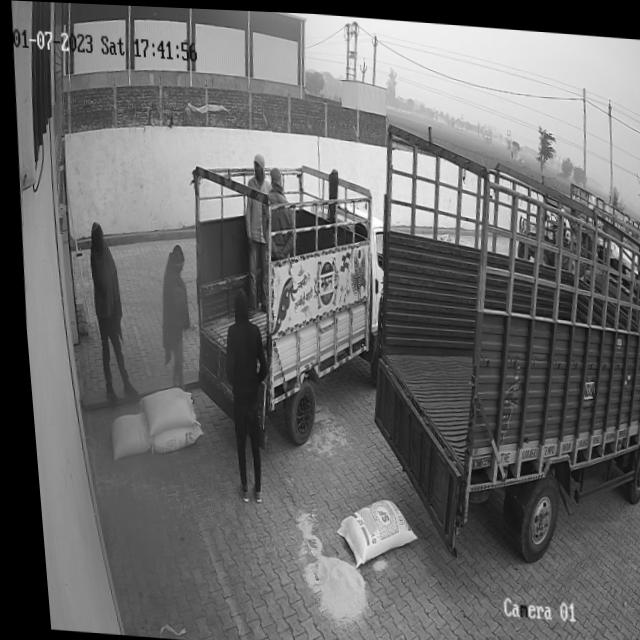sack: (324, 492, 411, 567), (132, 383, 191, 436), (100, 407, 144, 460), (142, 419, 197, 454)
